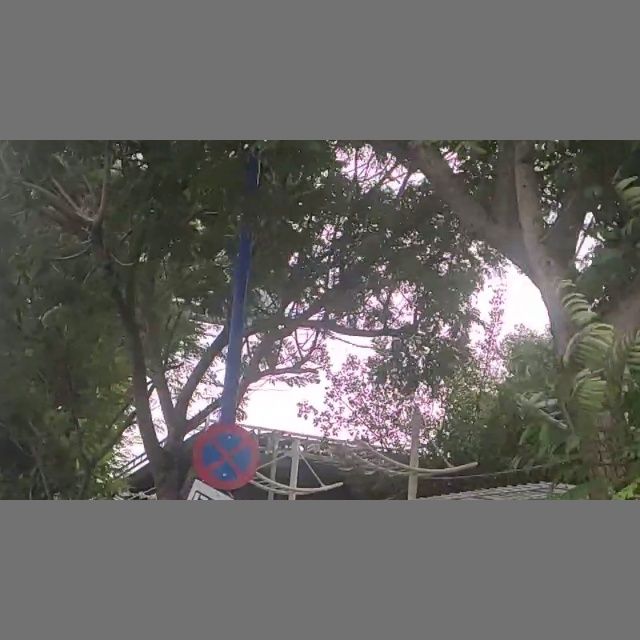P.130: (193, 426, 260, 489)
